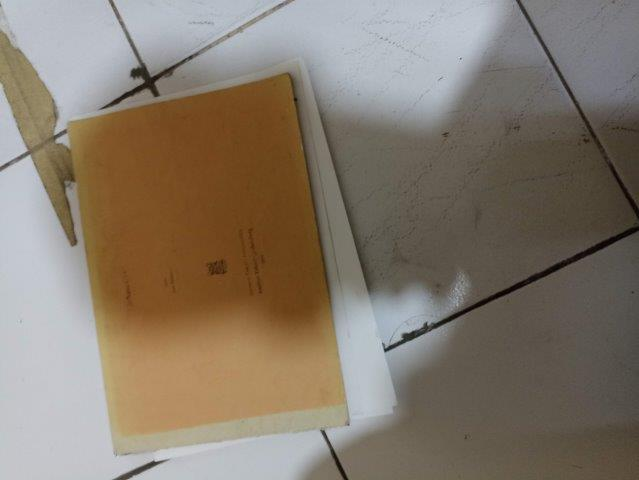kertas: (68, 57, 396, 461)
